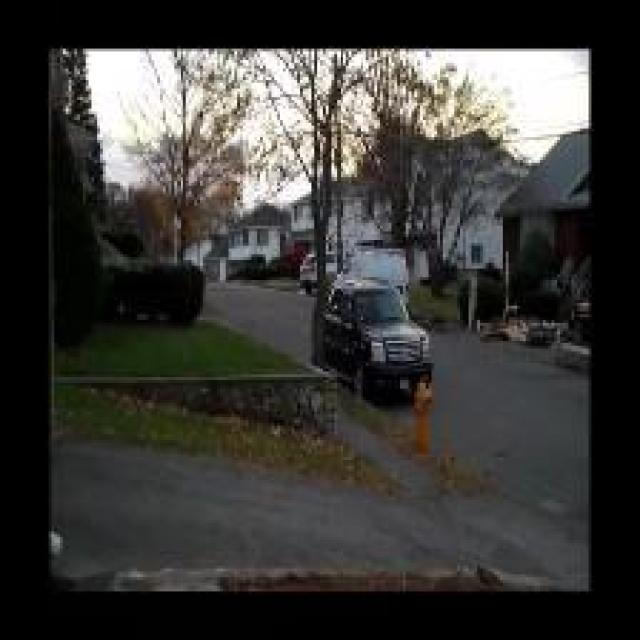other: (410, 376, 439, 458)
